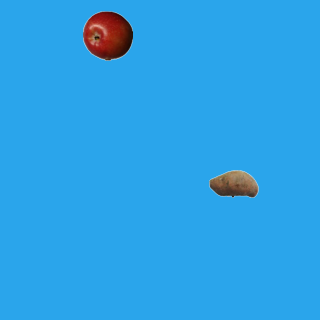Apple Braeburn: (82, 10, 132, 60)
Potato Sweet: (208, 158, 258, 208)
